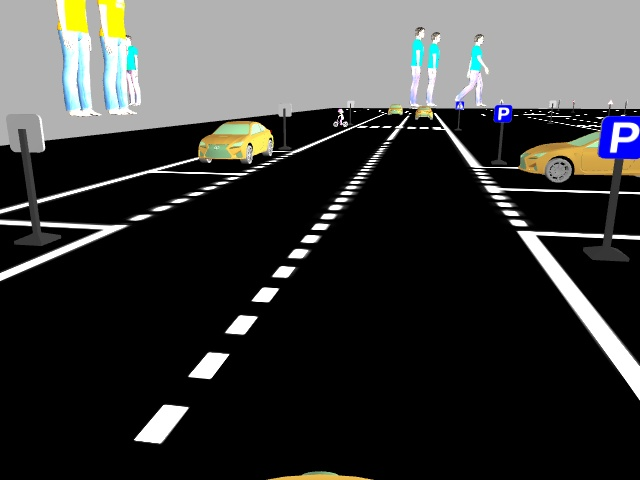Parking: (595, 112, 639, 161), (492, 103, 514, 123)
